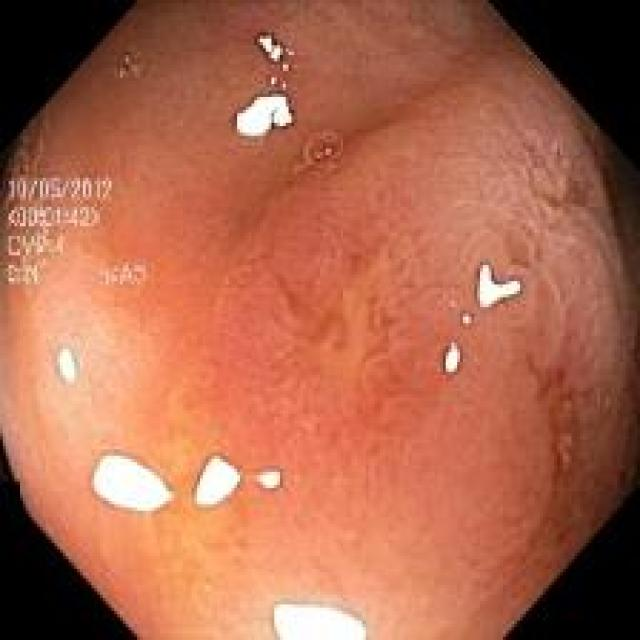Polyps: (196, 82, 639, 638)
